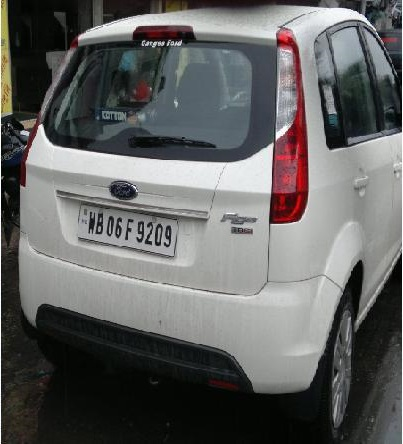WB06F9209: (77, 200, 178, 258)
